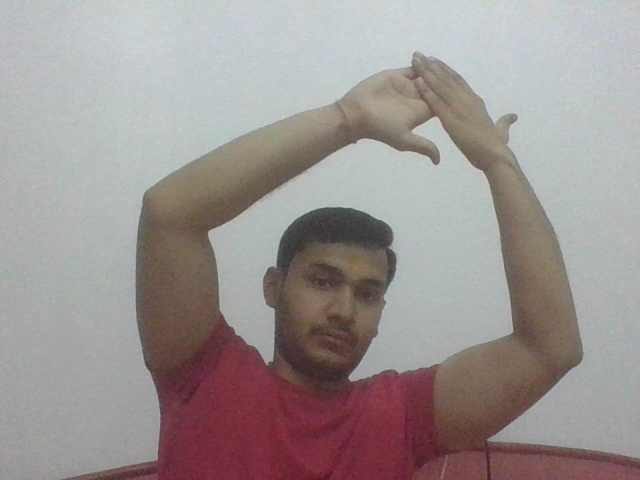H: (344, 55, 525, 174)
